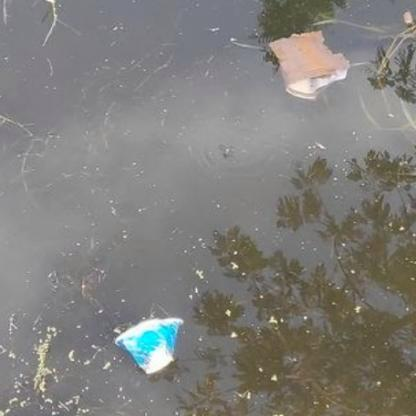Trash: (261, 21, 354, 101), (110, 312, 187, 375)
